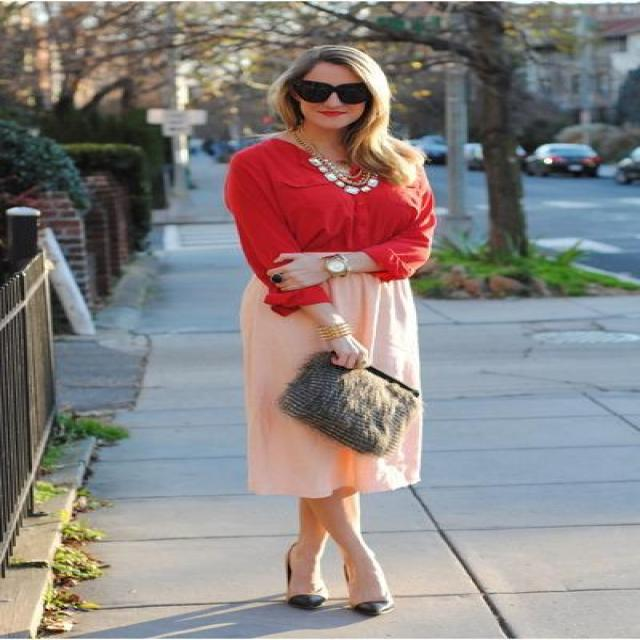bag: (278, 350, 448, 454)
shirt: (226, 141, 447, 316)
shoe: (275, 558, 386, 620)
skirt: (222, 252, 421, 498)
sunglass: (288, 78, 373, 114)
